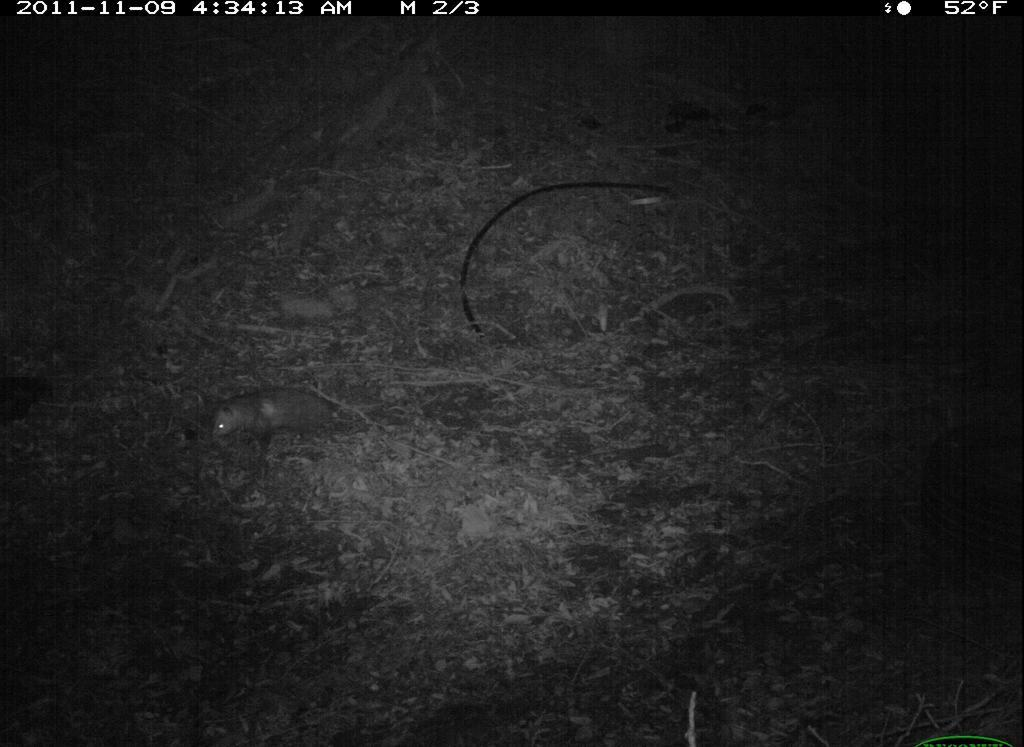opossum: (212, 381, 367, 466)
